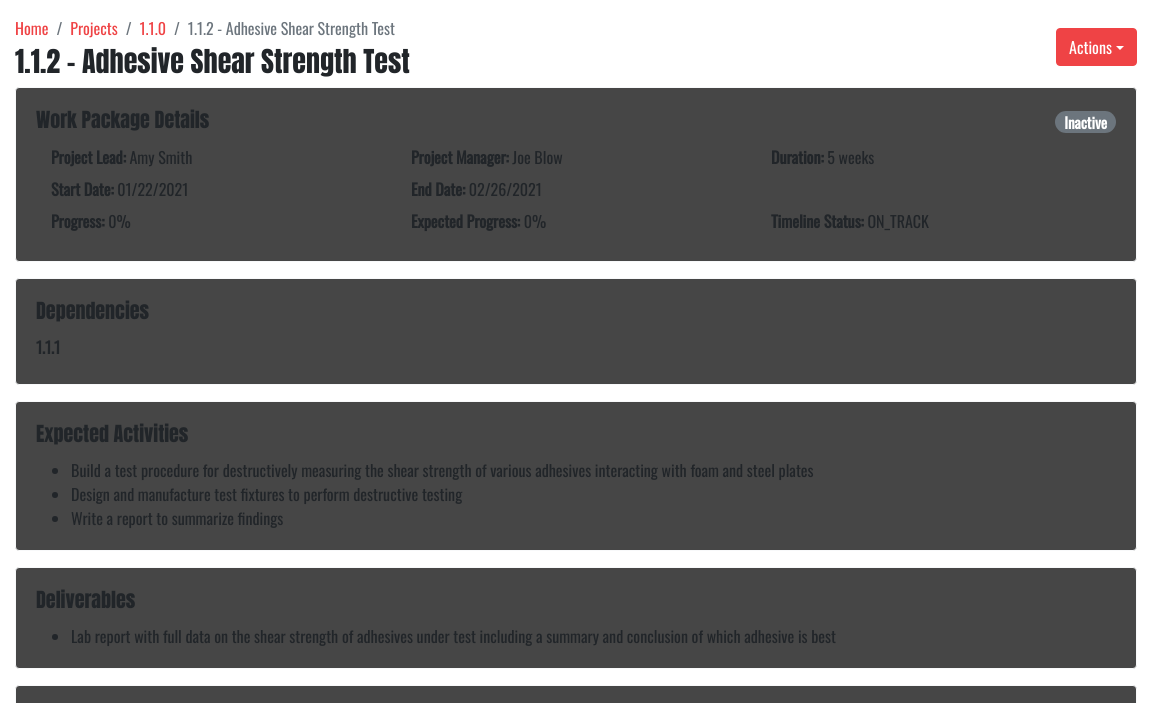
Test case: work package container view › disables activate button when not allowed
Click the button "Actions" at (1097, 47), box [1056,28,1137,66]
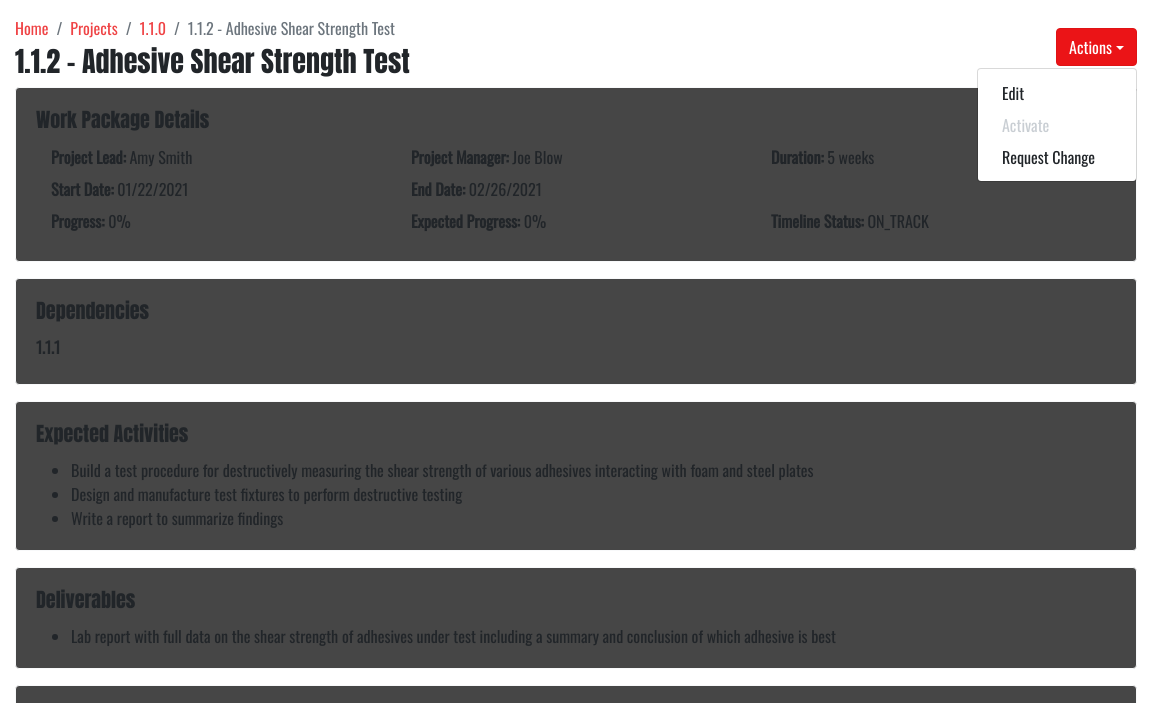
Now the button "Activate" is disabled, box [978,109,1136,141]
